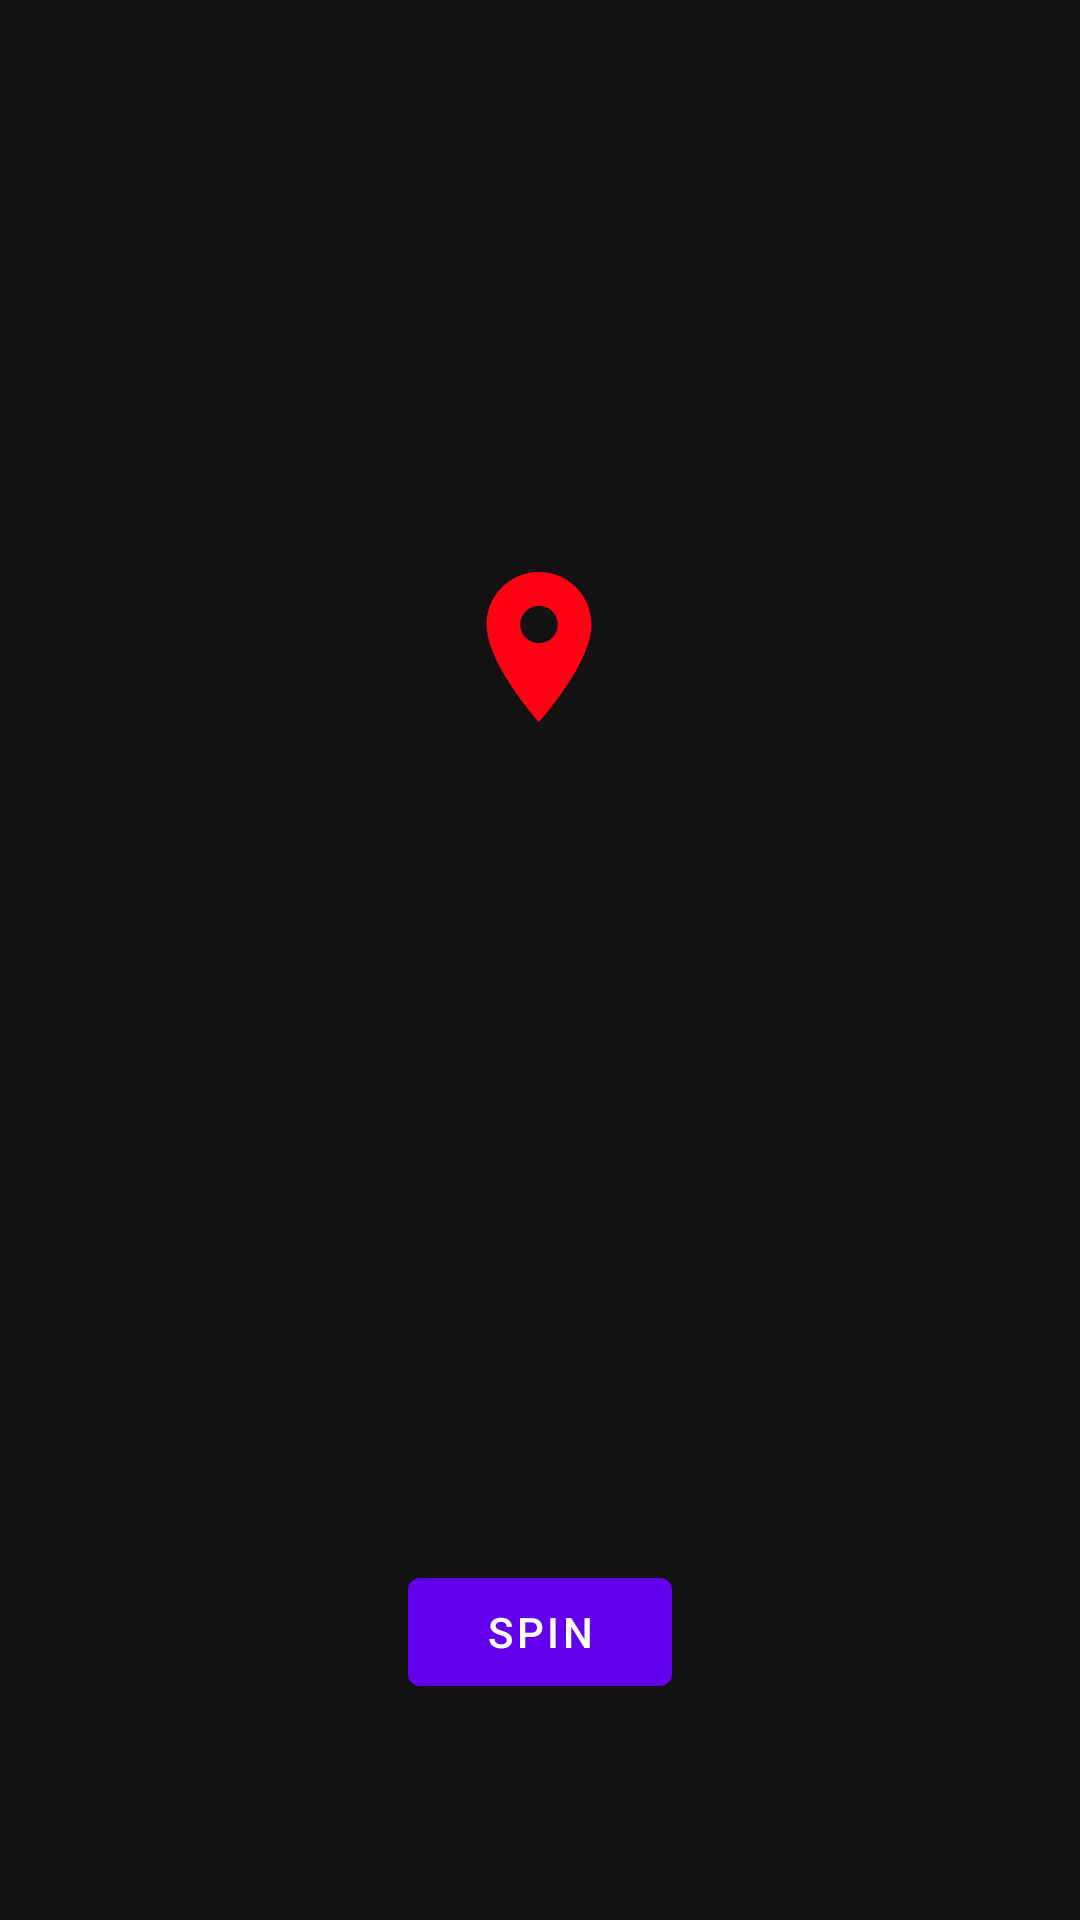

Locate icon controls on the screen. Image size 1080×1920, boxes as (x1, y1, x2, y2).
wheel pointer: (486, 572, 592, 722)
